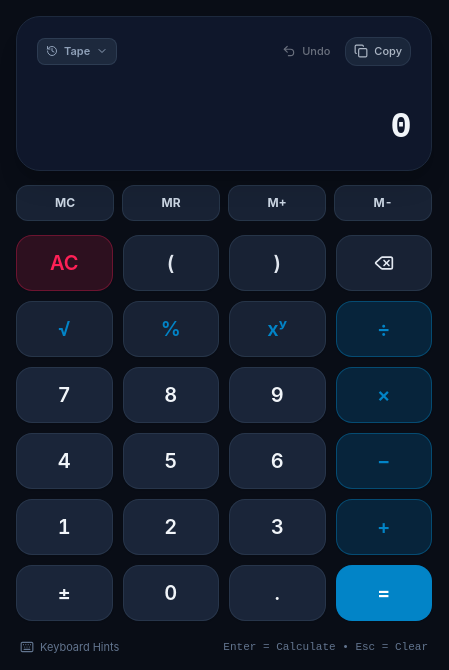
Test: BasicCalculator Component › handles multiplication and clearing
Click the button "8": (171, 395) [122,367,219,423]
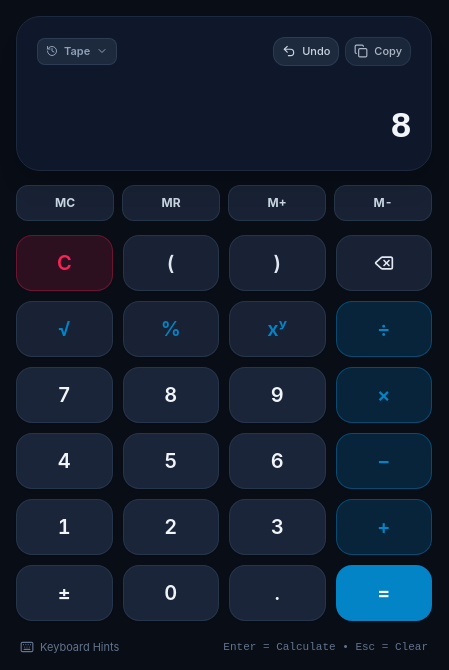
Click the button named "multiply": (384, 395) [336,367,432,423]
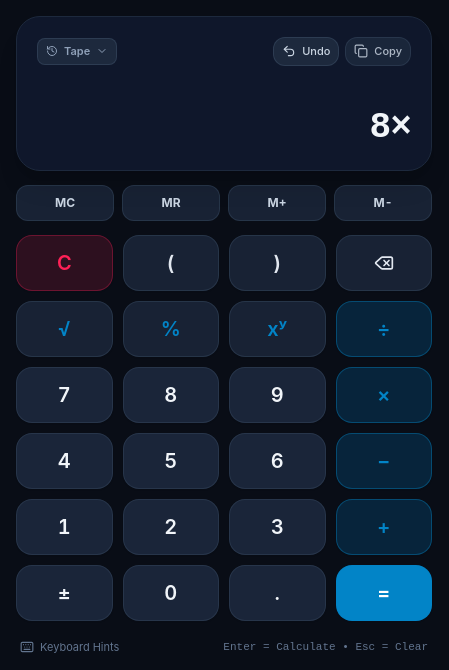
Click the button "6": (277, 461) [229,433,326,489]
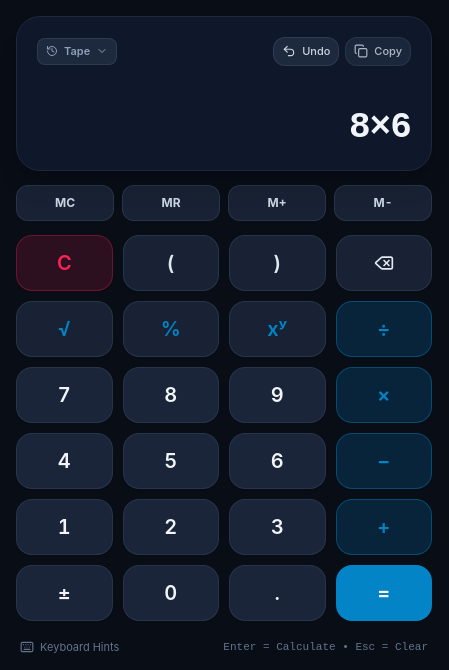
Click the button named "equals": (384, 593) [336,565,432,621]
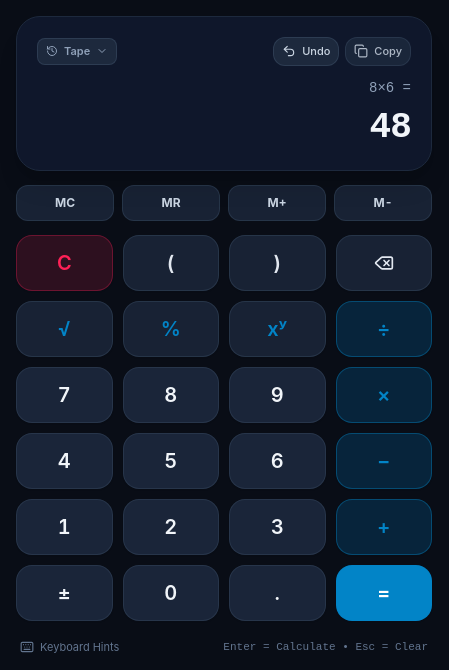
Now the text with id "basic-calc-output" reads "48", box [370,107,411,148]
Click the button "C": (64, 263) [16,235,112,291]
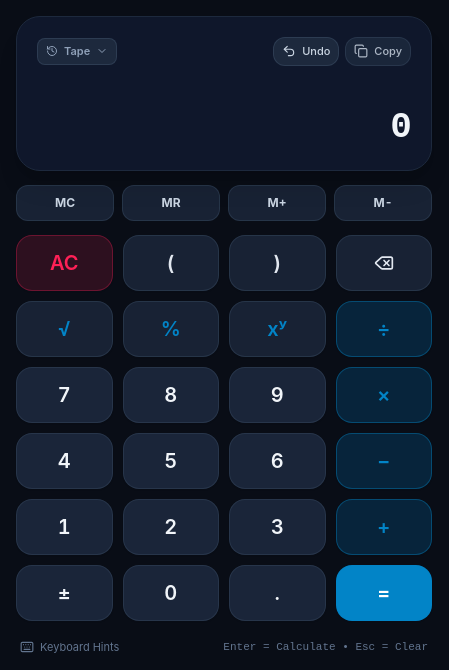
Now the text with id "basic-calc-output" reads "0", box [390,107,411,148]
